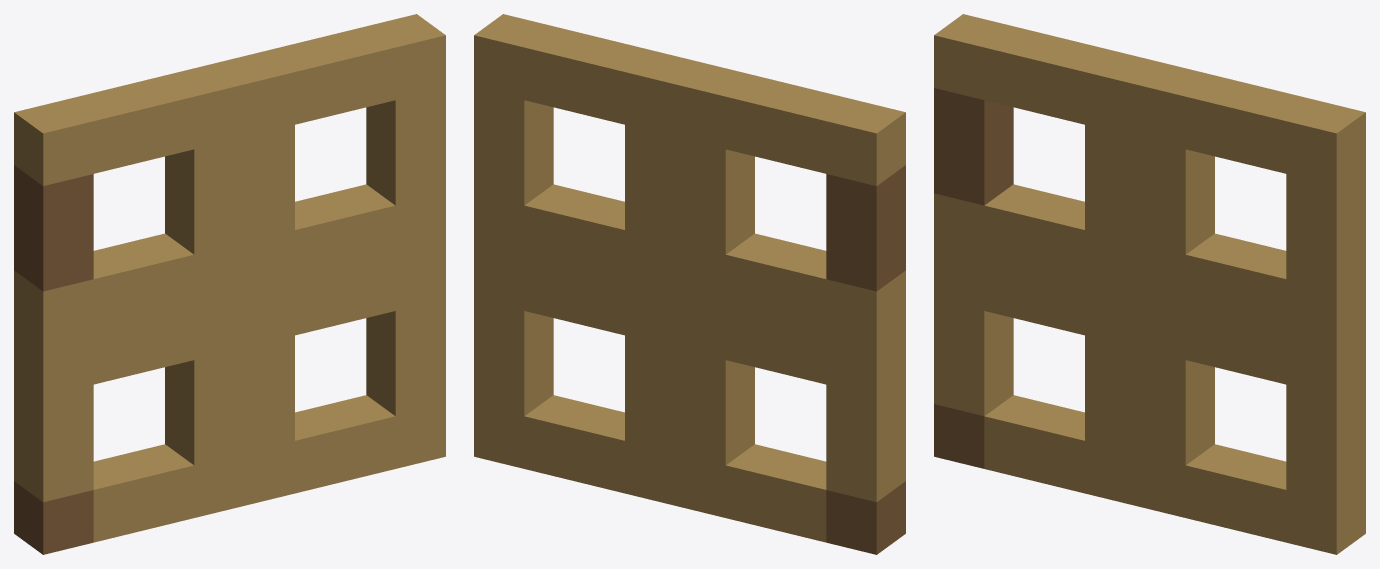
The model's file is _Maple Door Top.glb.
3 views of the same model, side by side, from view 1: azimuth 30°, elevation 25°; view 2: azimuth 150°, elevation 25°; view 3: azimuth 330°, elevation 25° (orthographic).
Visible parts, largest first — view 1: generated(Clone); view 2: generated(Clone); view 3: generated(Clone).
Boxes of the visible parts, bbox=[...] form: generated(Clone): bbox=[14, 14, 445, 554]; generated(Clone): bbox=[474, 14, 905, 554]; generated(Clone): bbox=[934, 14, 1365, 554].
Size of the model in its own units: 8 by 8 by 1.
1 material, 1 textured.
